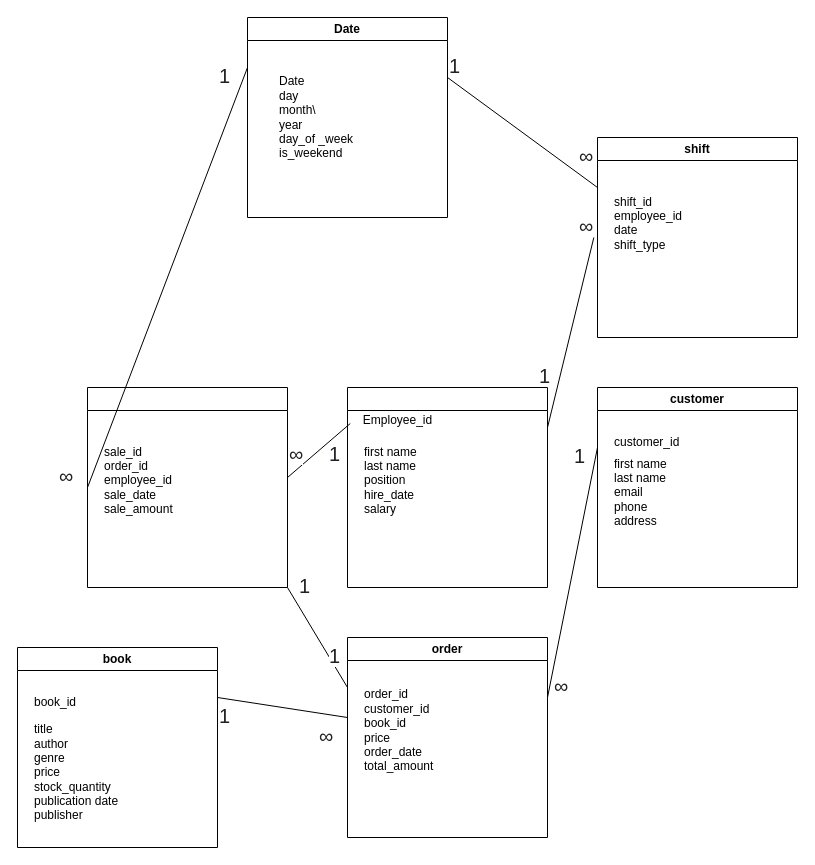
This 815x865 diagram has some shape labels left out. The shapes that lost their labels are listed below. From the top down, each one's box as (x1, y1, x2, y2) in pixels, then its label:
(86, 386, 288, 588): sales
(346, 386, 548, 588): Emplyee
